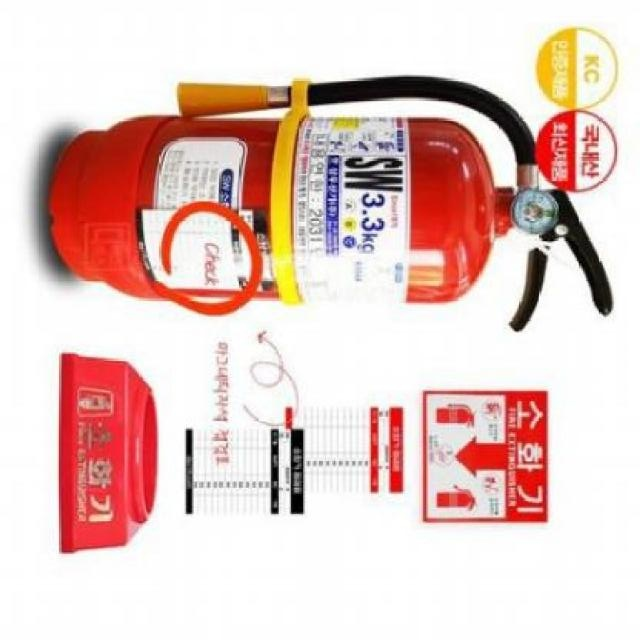fire extinguisher: (49, 74, 614, 334)
